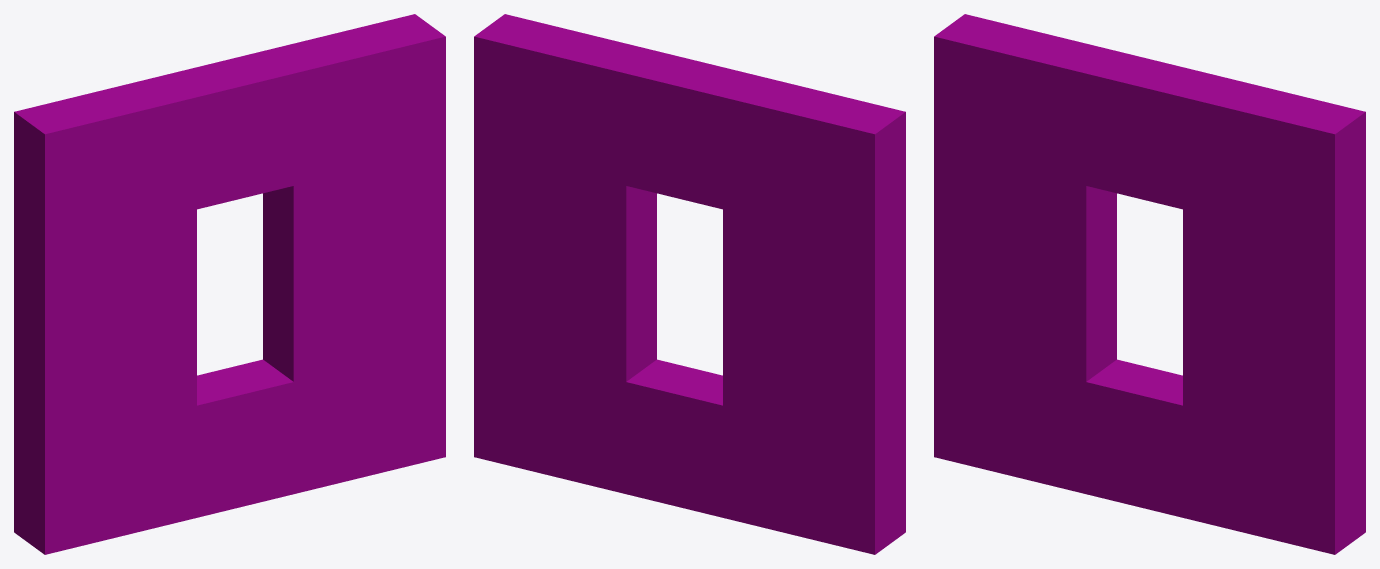
The model's file is Collider_Wall_Window_Open_002.fbx.
The picture shows the model from 3 angles, left to right: view 1: azimuth 30°, elevation 25°; view 2: azimuth 150°, elevation 25°; view 3: azimuth 330°, elevation 25°; orthographic projection.
Visible parts, largest first — view 1: Collider_Wall_Window_Open_002; view 2: Collider_Wall_Window_Open_002; view 3: Collider_Wall_Window_Open_002.
Part boxes in pixels (x1,y1,x2,y2): Collider_Wall_Window_Open_002: (14, 14, 445, 554); Collider_Wall_Window_Open_002: (474, 14, 905, 554); Collider_Wall_Window_Open_002: (934, 14, 1365, 554).
Bounding box in the file's own units: 2.99 × 3 × 0.398.
